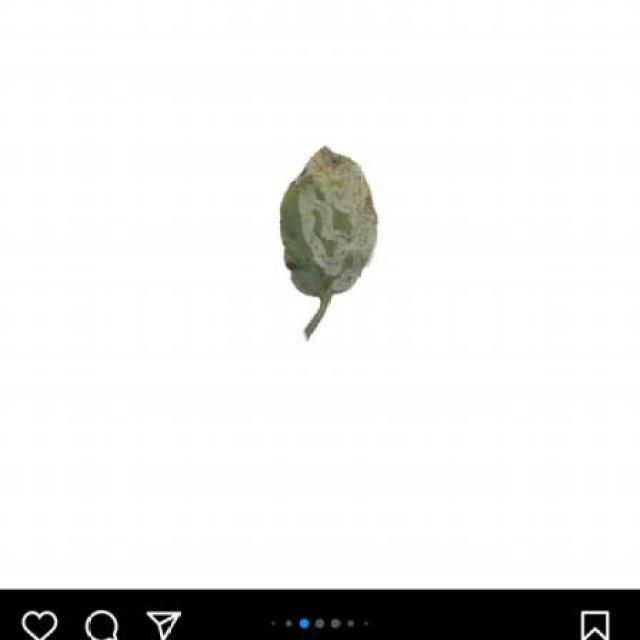Leaf Miner: (282, 145, 382, 301)
